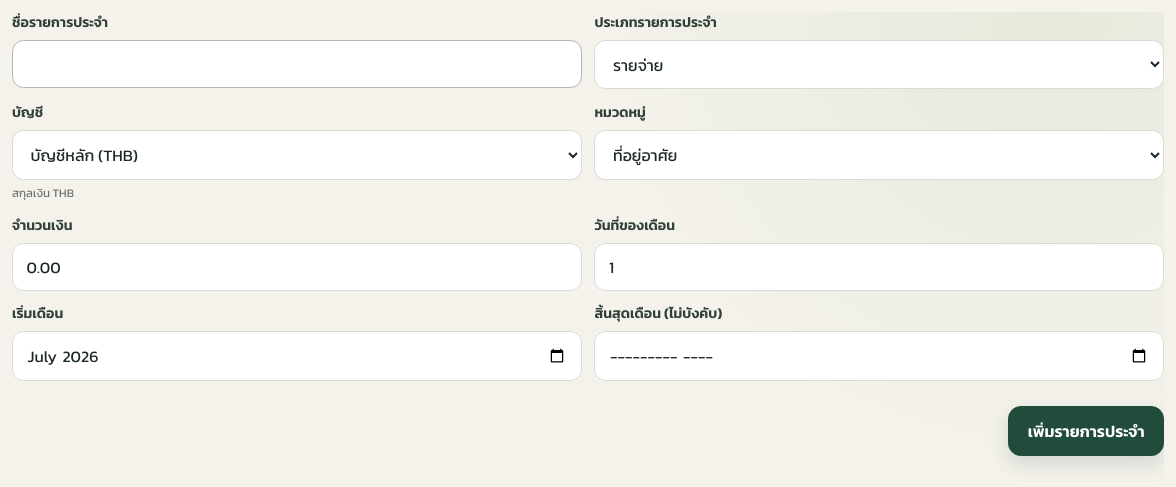
it: RecurringTemplateForm › derives currency from the account and filters categories by kind
expect the option "เงินเดือน" is not shown: met
Select "รายรับ" in the dropdown labelled "ประเภทรายการประจำ". click: x=879, y=65
box: [594,40,1164,90]
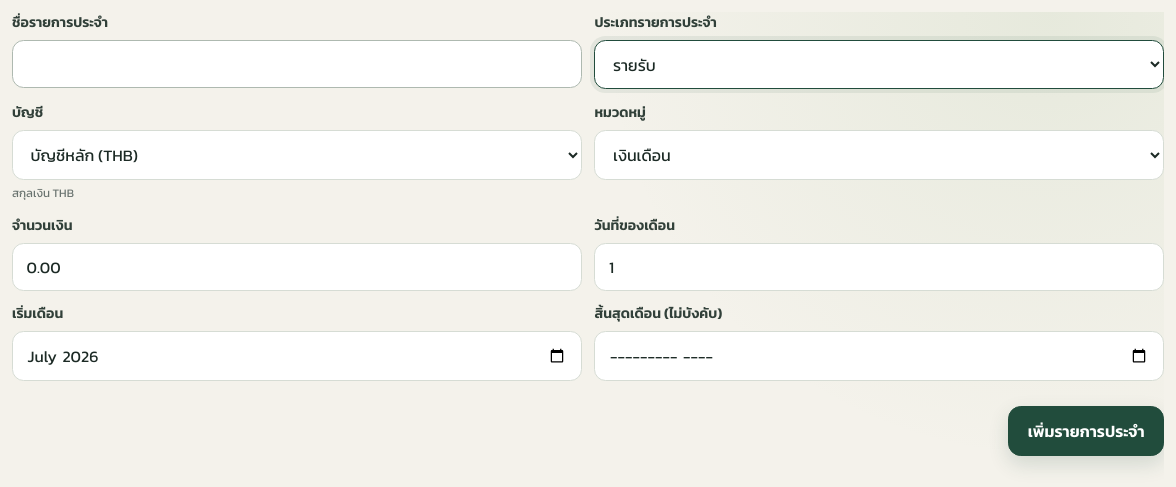
expect the option "ที่อยู่อาศัย" is not shown: met
Select "บัญชีดอลลาร์ (USD)" in the dropdown labelled "บัญชี". click: x=297, y=155
box: [12,130,582,180]
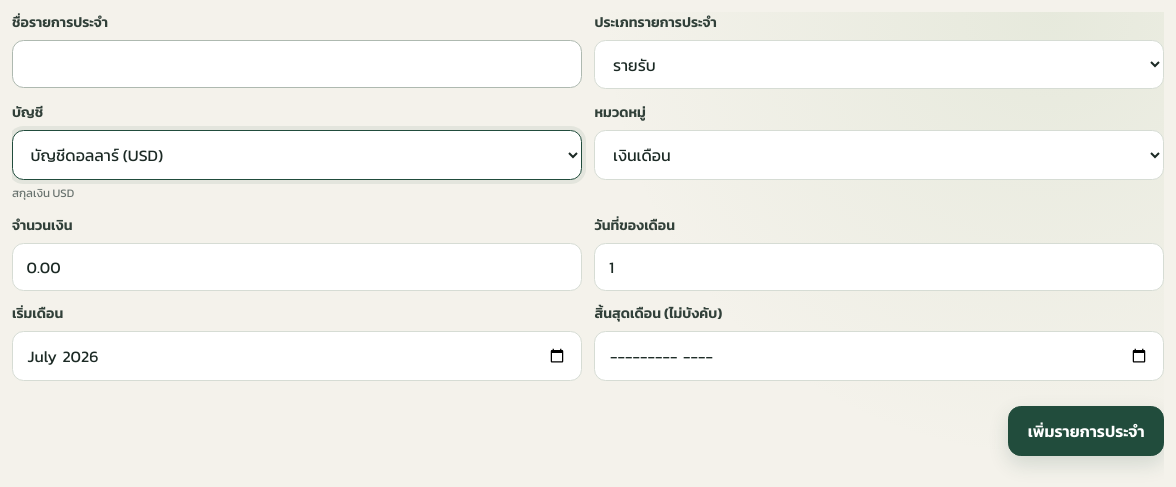
expect the text "สกุลเงิน USD" is shown: met, box [12,184,74,202]
